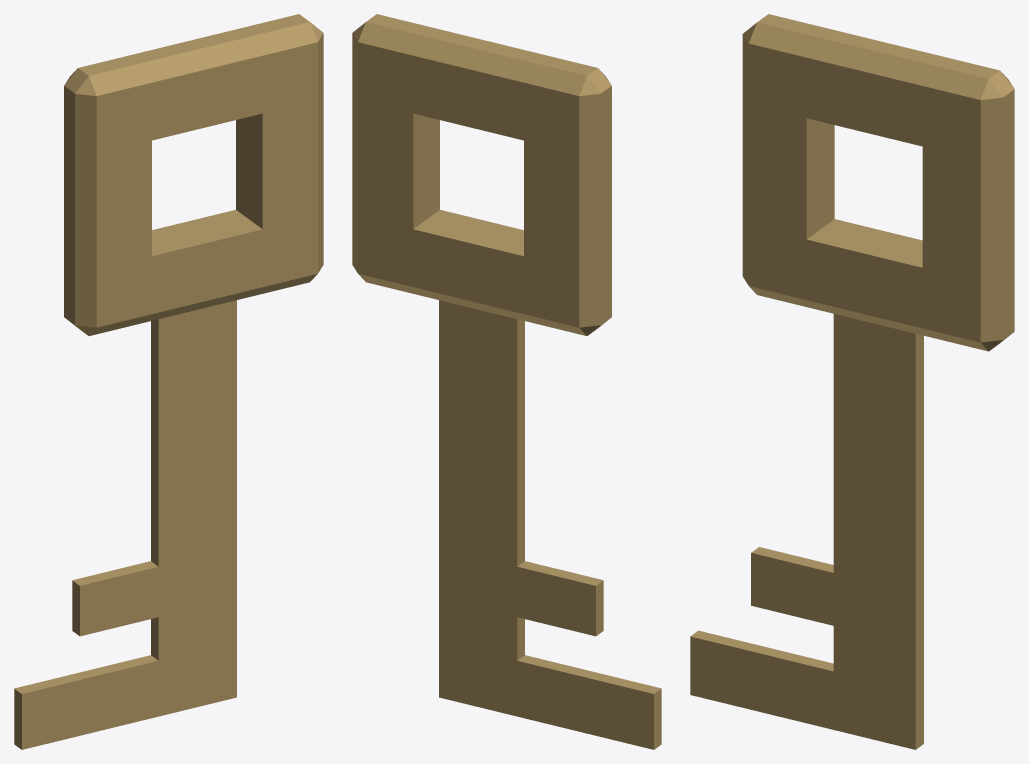
File: Key.gltf
3 views of the same model, side by side, from view 1: azimuth 30°, elevation 25°; view 2: azimuth 150°, elevation 25°; view 3: azimuth 330°, elevation 25° (orthographic). The views are drawn at different scales.
Visible parts, largest first — view 1: Key; view 2: Key; view 3: Key.
Boxes of the visible parts, x1=… form: Key: x1=14, y1=14, x2=323, y2=749; Key: x1=352, y1=14, x2=661, y2=749; Key: x1=690, y1=14, x2=1014, y2=749.
Bounding box in the file's own units: 0.1746 × 0.3661 × 0.027.
